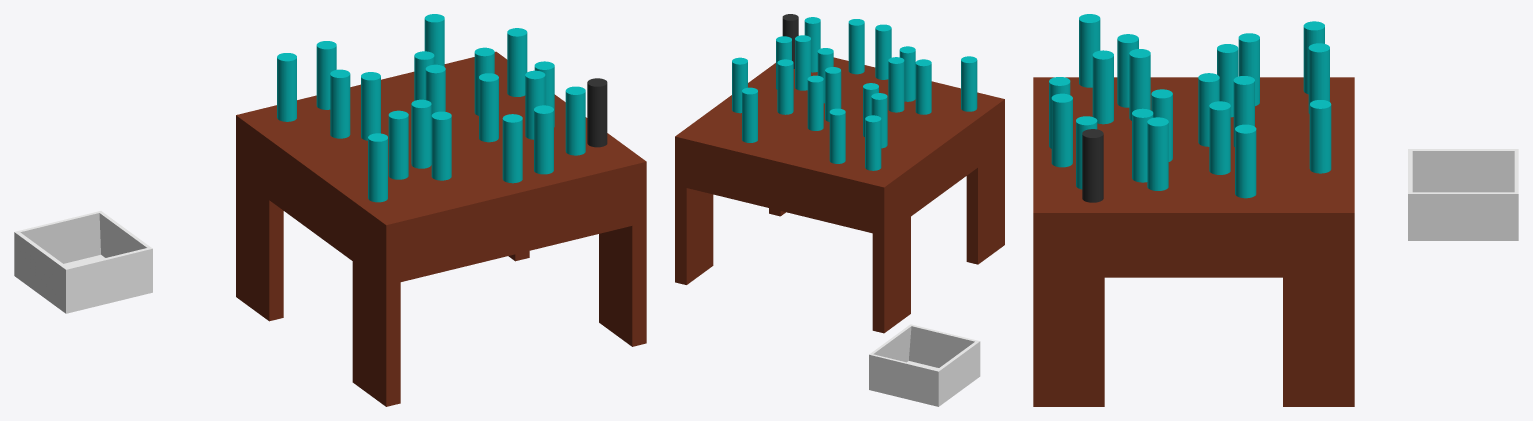
File: can_world_20_cans.dae
3 renders of one model, left to right at view 1: azimuth 30°, elevation 25°; view 2: azimuth 150°, elevation 25°; view 3: azimuth 270°, elevation 25°, orthographic. The views are drawn at different scales.
Parts seen in each view (by area): view 1: base (×24), SketchUp (×2); view 2: base (×24), SketchUp (×2); view 3: base (×23), SketchUp (×2).
Part boxes in pixels (<box>): base (×24): <box>236,14,646,406</box>; SketchUp (×2): <box>14,211,152,313</box>; base (×24): <box>675,14,1004,333</box>; SketchUp (×2): <box>869,324,980,406</box>; base (×23): <box>1033,14,1354,406</box>; SketchUp (×2): <box>1408,149,1518,240</box>.
Size of the model in its own units: 1.4 by 1.36 by 0.811.
